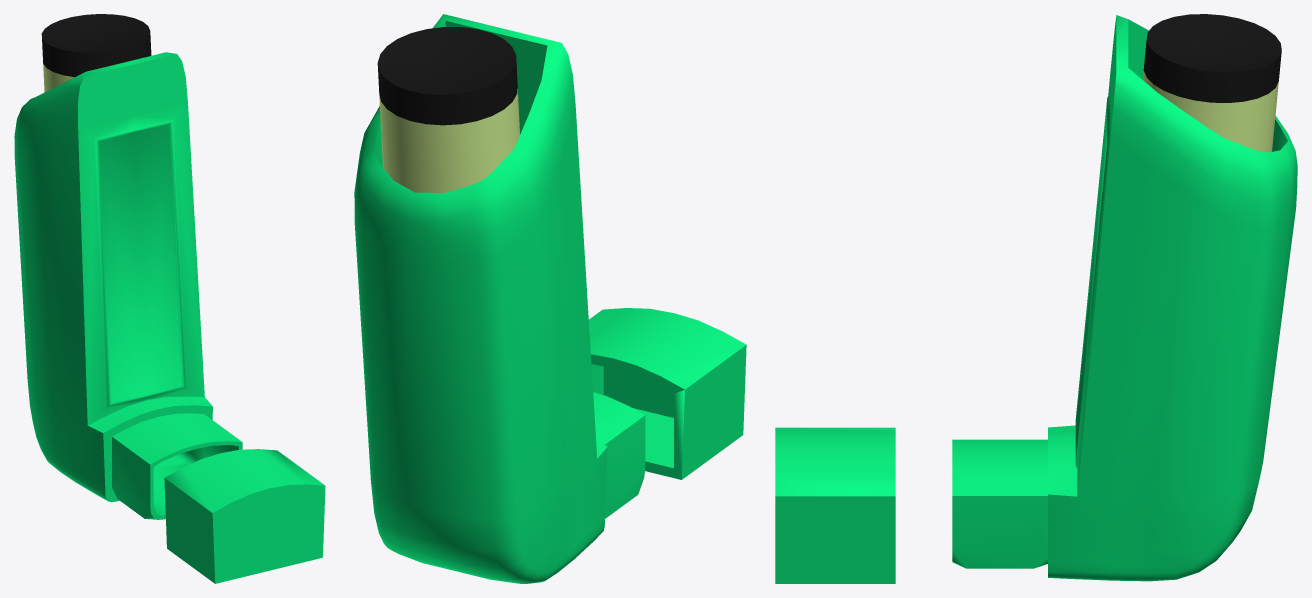
Rendered from Inhaler.fbx.
3 renders of one model, left to right at view 1: azimuth 30°, elevation 25°; view 2: azimuth 150°, elevation 25°; view 3: azimuth 270°, elevation 25°, orthographic. The views are drawn at different scales.
Visible parts, largest first — view 1: inhaler_support, inhaler_bouchon, inhaler_pshit; view 2: inhaler_support, inhaler_pshit, inhaler_bouchon; view 3: inhaler_support, inhaler_bouchon, inhaler_pshit.
Boxes of the visible parts, box(x1,y1,x2,y2) form: inhaler_support: box(14, 52, 242, 519); inhaler_bouchon: box(164, 449, 325, 583); inhaler_pshit: box(41, 14, 151, 92); inhaler_support: box(354, 14, 645, 583); inhaler_pshit: box(377, 27, 519, 192); inhaler_bouchon: box(588, 308, 746, 479); inhaler_support: box(952, 15, 1297, 581); inhaler_bouchon: box(775, 427, 895, 583); inhaler_pshit: box(1142, 14, 1281, 152).
Size of the model in its own units: 1.59 by 4.53 by 4.17.
